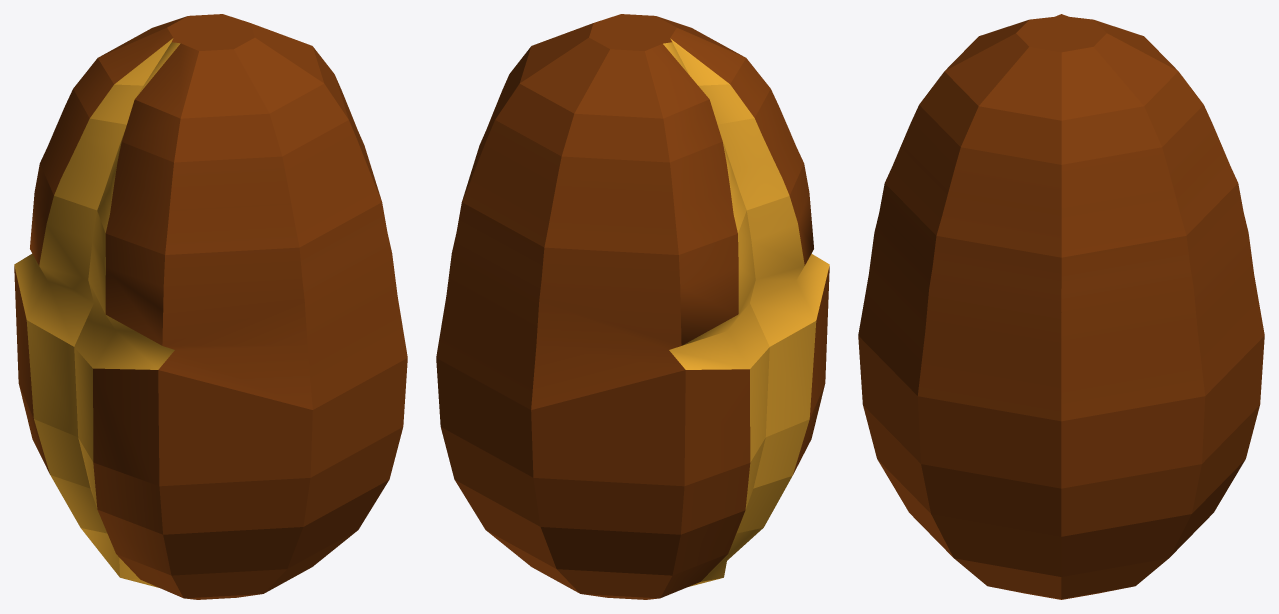
File: Backed Patato.fbx
The picture shows the model from 3 angles, left to right: view 1: azimuth 30°, elevation 25°; view 2: azimuth 150°, elevation 25°; view 3: azimuth 270°, elevation 25°; orthographic projection.
Visible parts, largest first — view 1: Cylinder.004; view 2: Cylinder.004; view 3: Cylinder.004.
Part boxes in pixels (left/top/right/bottom): Cylinder.004: left=14, top=14, right=407, bottom=599; Cylinder.004: left=436, top=14, right=829, bottom=599; Cylinder.004: left=858, top=14, right=1264, bottom=599.
Size of the model in its own units: 253 by 404 by 273.
